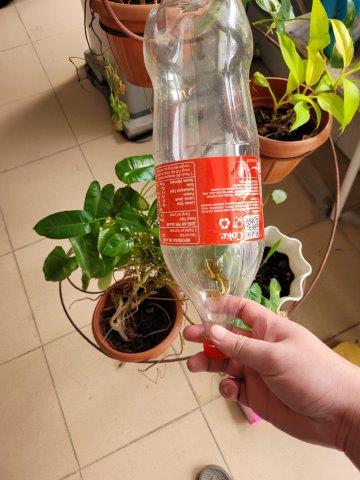botolplastik: (143, 1, 264, 331)
